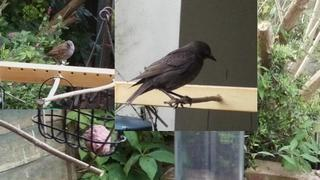dunnock: (39, 40, 75, 66)
starling: (126, 40, 217, 109)
